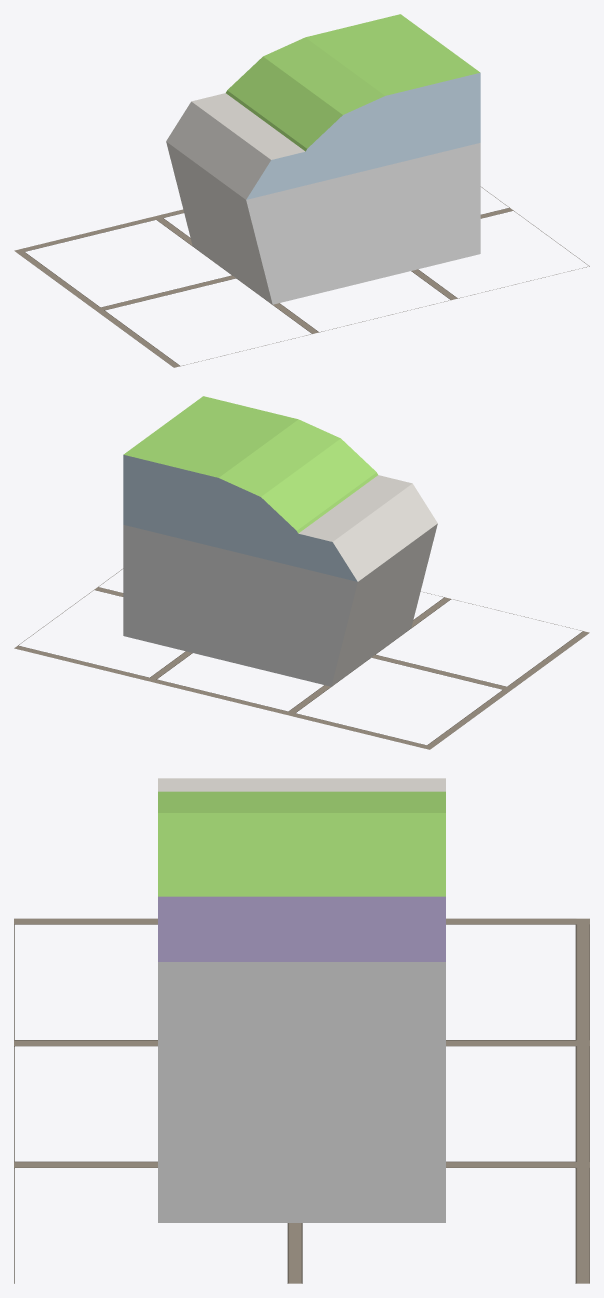
File: Waterfall_Center_Top_Terrain_1x3.glb
3 renders of one model, top to bottom at view 1: azimuth 30°, elevation 25°; view 2: azimuth 150°, elevation 25°; view 3: azimuth 270°, elevation 25°, orthographic. The views are drawn at different scales.
Parts seen in each view (by area): view 1: Waterfall_Center_Top_Terrain_1x3, Floor; view 2: Waterfall_Center_Top_Terrain_1x3, Floor; view 3: Waterfall_Center_Top_Terrain_1x3, Floor.
Boxes of the visible parts, x1=… form: Waterfall_Center_Top_Terrain_1x3: x1=166, y1=14, x2=480, y2=304; Floor: x1=14, y1=187, x2=589, y2=367; Waterfall_Center_Top_Terrain_1x3: x1=123, y1=396, x2=437, y2=686; Floor: x1=14, y1=569, x2=589, y2=749; Waterfall_Center_Top_Terrain_1x3: x1=158, y1=778, x2=445, y2=1222; Floor: x1=14, y1=918, x2=589, y2=1283.
Bounding box in the file's own units: 300 × 125 × 200.
Materials: 6 (1 with a texture image).
